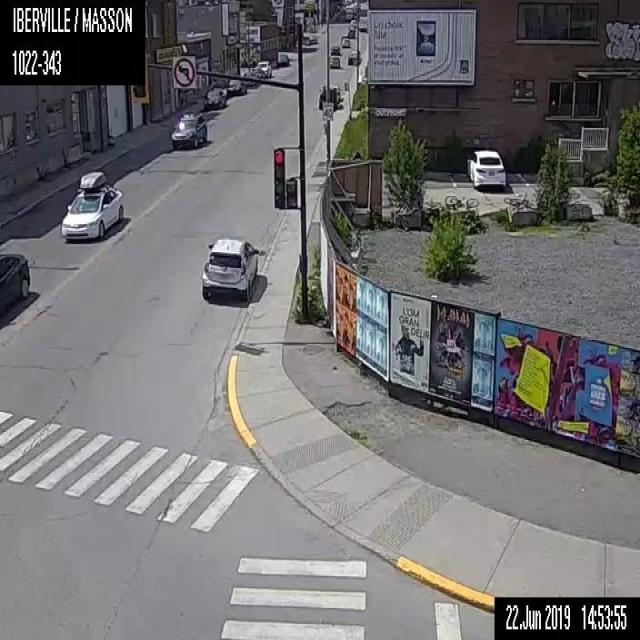vehicle: (60, 168, 124, 242), (197, 235, 258, 302), (0, 250, 30, 318), (464, 145, 508, 190), (168, 111, 207, 148), (316, 83, 344, 109), (203, 83, 226, 108), (224, 76, 246, 94), (242, 72, 259, 88), (344, 2, 359, 20), (300, 32, 318, 47), (346, 49, 361, 66), (258, 60, 271, 76), (328, 54, 340, 70), (275, 51, 288, 65), (330, 44, 340, 54), (341, 37, 350, 47), (347, 28, 355, 38)
